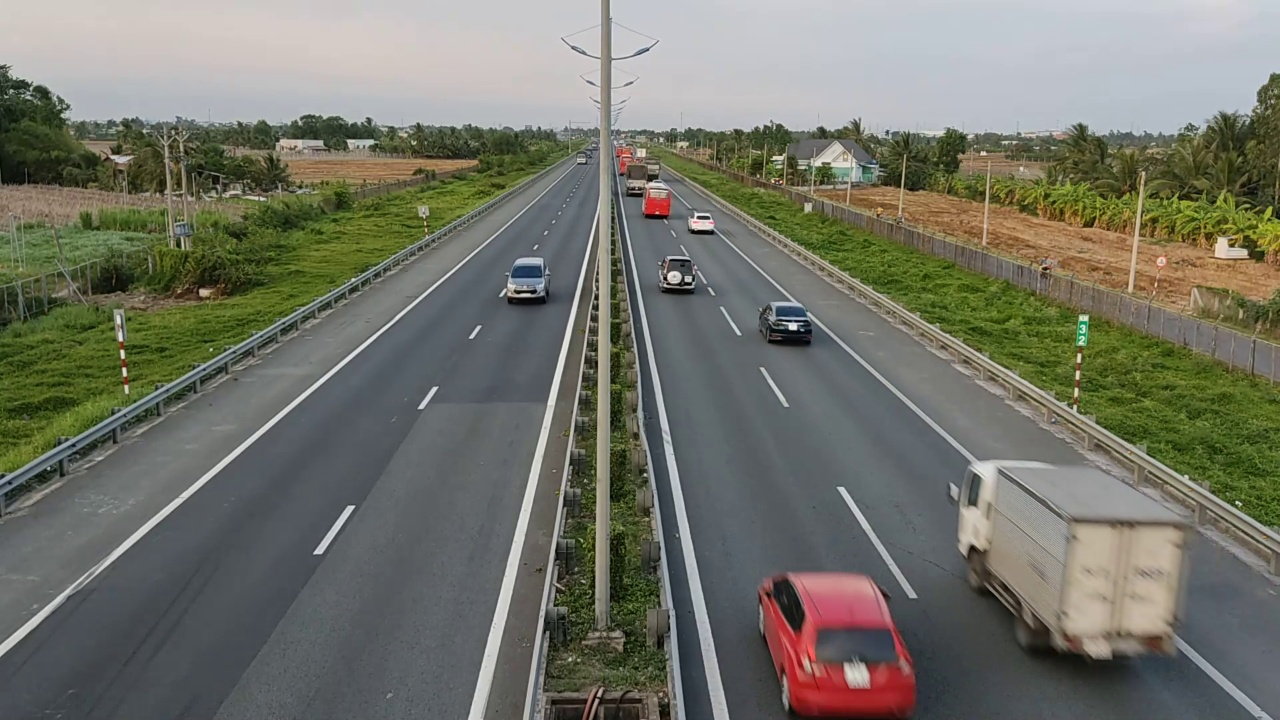car: (757, 569, 918, 717), (502, 253, 548, 307), (757, 301, 813, 344), (656, 255, 695, 292), (687, 211, 716, 233)
truck: (948, 456, 1192, 664), (643, 181, 671, 218)
